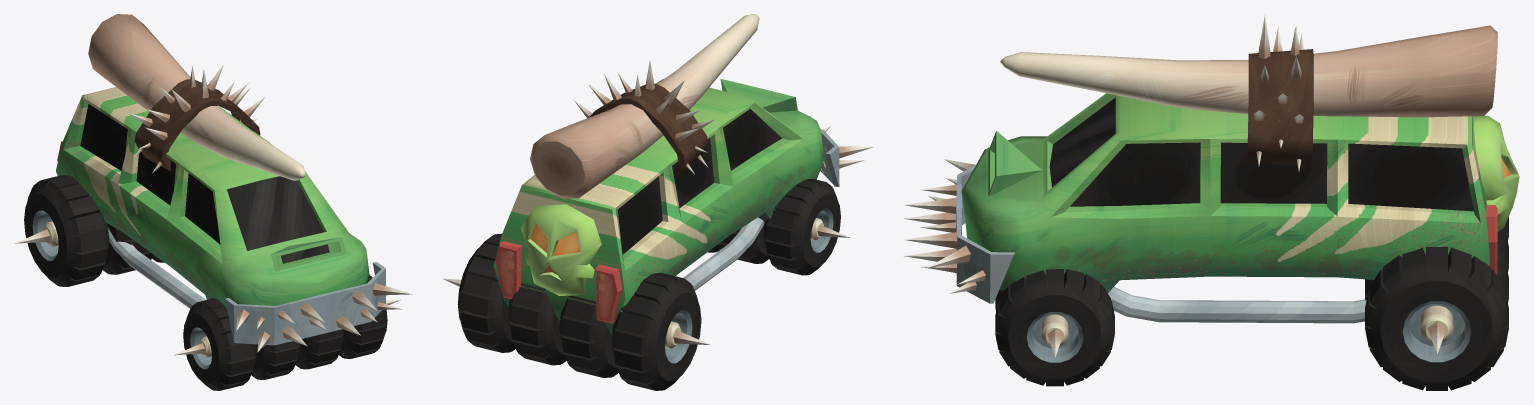
File: Jeep.fbx
3 renders of one model, left to right at view 1: azimuth 30°, elevation 25°; view 2: azimuth 150°, elevation 25°; view 3: azimuth 270°, elevation 25°, orthographic. The views are drawn at different scales.
Parts seen in each view (by area): view 1: Jeep Body, Jeep Front Tires, Jeep Back Tires; view 2: Jeep Body, Jeep Back Tires, Jeep Front Tires; view 3: Jeep Body, Jeep Back Tires, Jeep Front Tires.
Part boxes in pixels (<box>): Jeep Body: <box>56,14,412,352</box>; Jeep Front Tires: <box>173,275,401,390</box>; Jeep Back Tires: <box>15,175,164,286</box>; Jeep Body: <box>493,14,873,334</box>; Jeep Back Tires: <box>443,233,711,390</box>; Jeep Front Tires: <box>708,179,850,275</box>; Jeep Body: <box>904,15,1519,323</box>; Jeep Back Tires: <box>1365,217,1508,390</box>; Jeep Front Tires: <box>995,269,1114,386</box>.
Bounding box in the file's own units: 3460 × 3124 × 5513.
